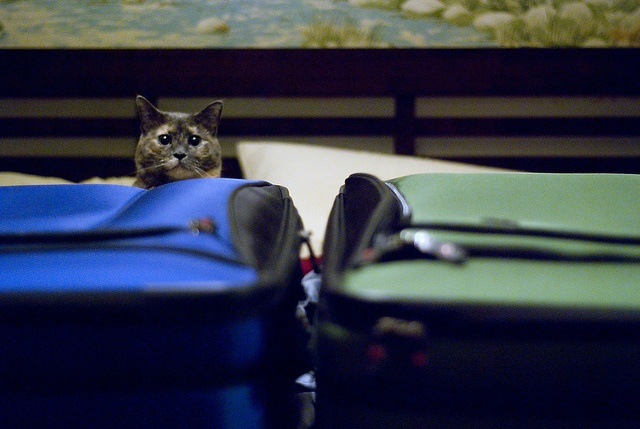cat: (131, 96, 360, 283)
